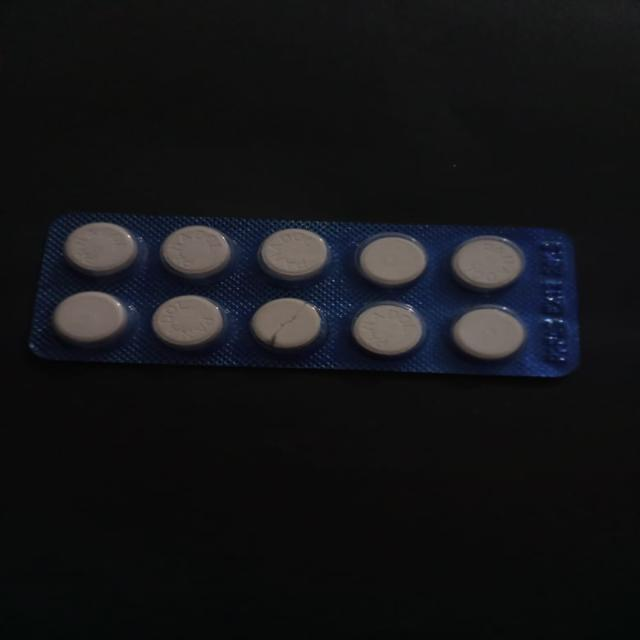defect: (246, 296, 328, 355)
